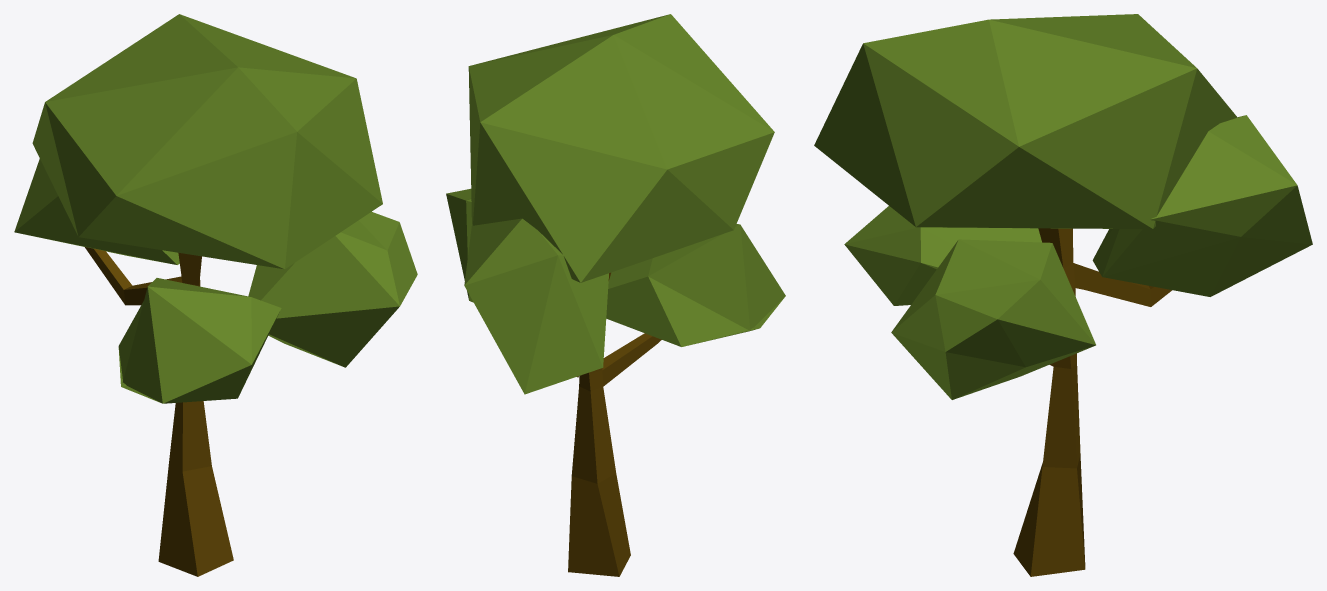
File: oak-lightgreen.gltf
The picture shows the model from 3 angles, left to right: view 1: azimuth 30°, elevation 25°; view 2: azimuth 150°, elevation 25°; view 3: azimuth 270°, elevation 25°; orthographic projection. The views are drawn at different scales.
Visible parts, largest first — view 1: Plane.002; view 2: Plane.002; view 3: Plane.002.
Boxes of the visible parts, x1,y1,x2,y2 form: Plane.002: (14, 14, 417, 576); Plane.002: (446, 14, 785, 576); Plane.002: (814, 14, 1312, 576).
Bounding box in the file's own units: 0.7252 × 1.15 × 0.9461.
